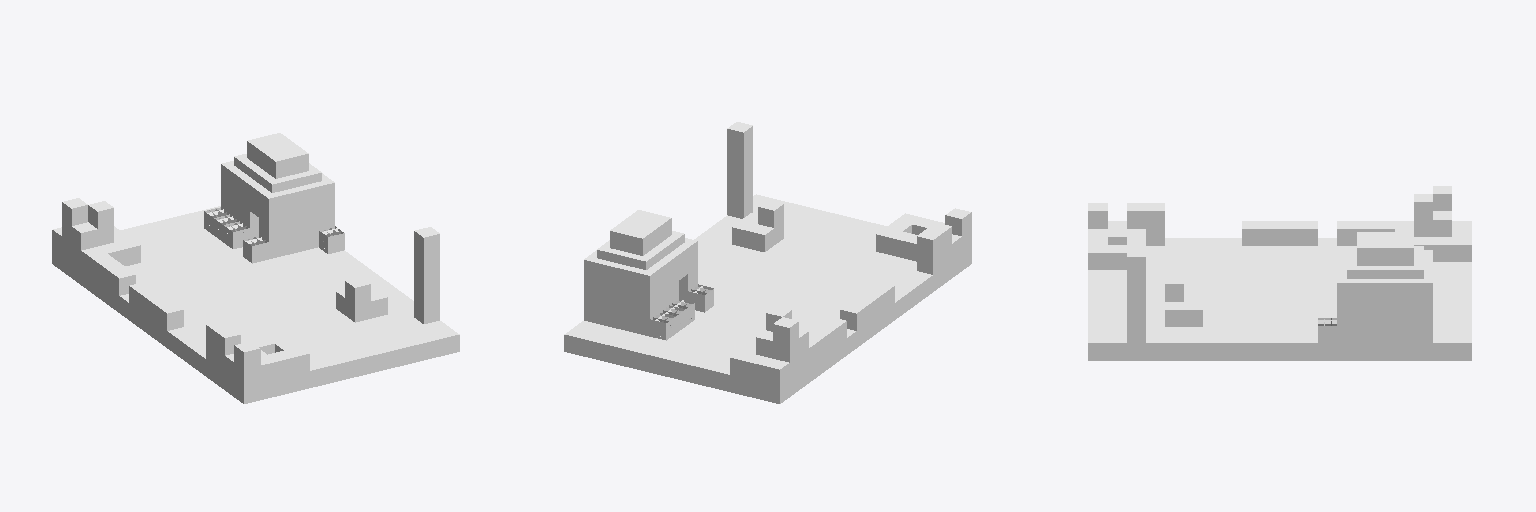
The model's file is level1-3.obj.
3 views of the same model, side by side, from view 1: azimuth 30°, elevation 25°; view 2: azimuth 150°, elevation 25°; view 3: azimuth 270°, elevation 25° (orthographic).
Parts seen in each view (by area): view 1: level3__118_69_253_to_130_255_272; view 2: level3__118_69_253_to_130_255_272; view 3: level3__118_69_253_to_130_255_272.
Boxes of the visible parts, x1=… form: level3__118_69_253_to_130_255_272: x1=52, y1=133, x2=459, y2=403; level3__118_69_253_to_130_255_272: x1=564, y1=122, x2=971, y2=403; level3__118_69_253_to_130_255_272: x1=1088, y1=186, x2=1471, y2=360.
Bounding box in the file's own units: 13 × 6 × 20.